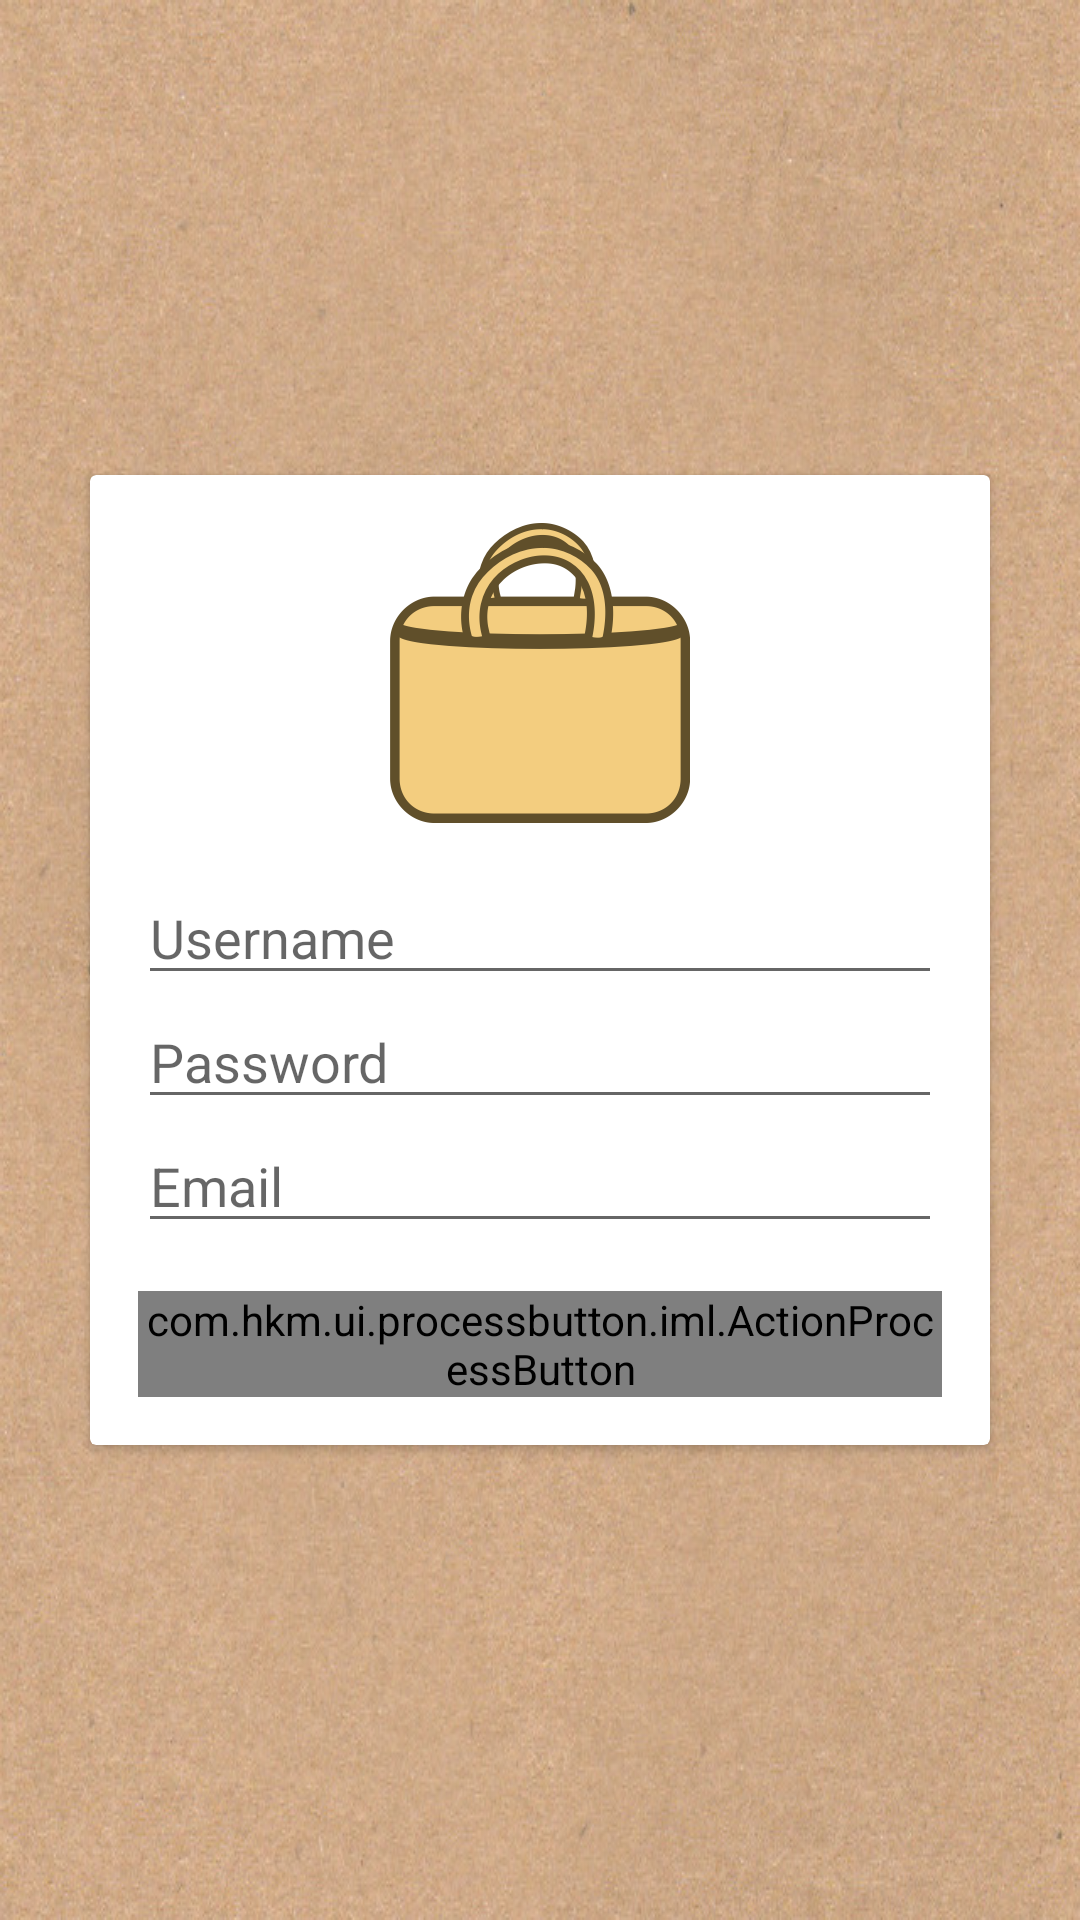

Named icons in this screenshot (1080w x 1920h) and their bounding boxes, [x1=x1, y1=y1, x2=x2, y2=y2]:
shopping bag: [x1=390, y1=523, x2=690, y2=823]
